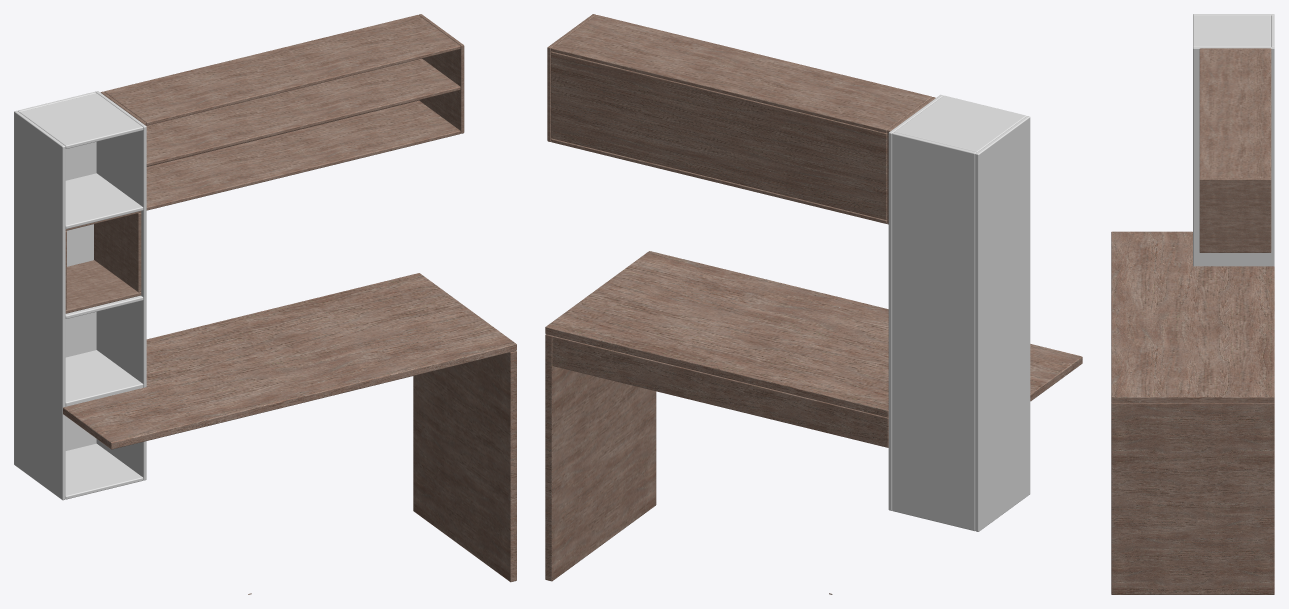
File: desk.fbx
The picture shows the model from 3 angles, left to right: view 1: azimuth 30°, elevation 25°; view 2: azimuth 150°, elevation 25°; view 3: azimuth 270°, elevation 25°; orthographic projection. The views are drawn at different scales.
Parts seen in each view (by area): view 1: Plane.001, Plane, Plane.005, Plane.018, Plane.017, Plane.021, Plane.006, Plane.007, Plane.011, Plane.014, Plane.008, Plane.010 (+3 smaller); view 2: Plane.001, Plane.007, Plane.020, Plane.005, Plane, Plane.018, Plane.002, Plane.011, Plane.006, Plane.017; view 3: Plane, Plane.001, Plane.018, Plane.019, Plane.006, Plane.011.
Part boxes in pixels (left/top/right/bottom): Plane.001: left=63, top=273, right=516, bottom=449; Plane: left=413, top=351, right=516, bottom=582; Plane.005: left=14, top=110, right=65, bottom=500; Plane.018: left=104, top=15, right=460, bottom=125; Plane.017: left=146, top=100, right=460, bottom=210; Plane.021: left=146, top=58, right=460, bottom=166; Plane.006: left=95, top=91, right=146, bottom=480; Plane.007: left=18, top=92, right=96, bottom=450; Plane.011: left=19, top=93, right=143, bottom=148; Plane.014: left=94, top=212, right=141, bottom=292; Plane.008: left=65, top=350, right=143, bottom=406; Plane.010: left=65, top=173, right=143, bottom=229; Plane.001: left=545, top=251, right=1082, bottom=417; Plane.007: left=892, top=132, right=976, bottom=531; Plane.020: left=551, top=51, right=887, bottom=220; Plane.005: left=975, top=116, right=1030, bottom=531; Plane: left=545, top=334, right=656, bottom=581; Plane.018: left=551, top=15, right=931, bottom=133; Plane.002: left=552, top=336, right=888, bottom=447; Plane.011: left=894, top=95, right=1026, bottom=152; Plane.006: left=888, top=94, right=943, bottom=510; Plane.017: left=551, top=138, right=887, bottom=223; Plane: left=1111, top=402, right=1274, bottom=594; Plane.001: left=1111, top=231, right=1274, bottom=402; Plane.018: left=1199, top=50, right=1271, bottom=178; Plane.019: left=1199, top=178, right=1271, bottom=252; Plane.006: left=1193, top=47, right=1274, bottom=266; Plane.011: left=1193, top=15, right=1271, bottom=47.
Bounding box in the file's own units: 120 × 50 × 141.
Materials: 2 (1 with a texture image).
